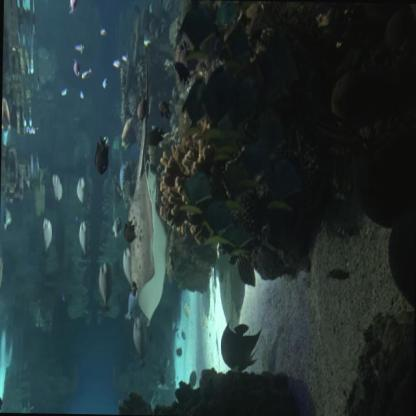fish: (217, 318, 265, 376), (263, 149, 306, 212), (177, 0, 220, 62), (199, 62, 237, 130), (235, 138, 276, 190), (199, 194, 237, 249), (228, 66, 258, 134), (220, 157, 252, 212), (256, 104, 287, 157), (178, 169, 212, 215), (328, 149, 354, 203), (180, 76, 206, 129), (221, 218, 254, 254), (129, 313, 149, 367), (97, 260, 114, 311), (236, 252, 259, 289), (93, 136, 111, 175), (76, 217, 91, 257), (121, 246, 135, 286), (172, 59, 192, 87), (119, 114, 135, 148), (118, 160, 131, 200), (41, 218, 54, 255), (125, 285, 138, 319), (146, 126, 166, 148), (51, 171, 64, 204), (122, 218, 137, 244), (326, 266, 350, 282), (75, 174, 87, 205), (136, 89, 147, 117), (0, 255, 5, 314), (111, 215, 122, 241), (157, 99, 172, 118), (3, 204, 13, 232), (157, 372, 170, 392), (188, 370, 198, 390), (182, 297, 191, 318), (72, 58, 81, 77), (69, 0, 80, 15), (74, 42, 86, 55), (201, 314, 209, 332), (81, 67, 92, 80), (162, 355, 170, 370), (61, 88, 70, 99), (112, 58, 121, 69), (101, 76, 108, 90), (180, 328, 186, 343), (99, 27, 107, 37), (176, 315, 180, 331), (171, 319, 176, 330), (80, 88, 84, 99), (122, 54, 127, 62), (393, 347, 394, 347)
stingray: (124, 161, 155, 299)
